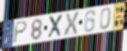0: (99, 7, 112, 31)
6: (83, 9, 96, 33)
8: (30, 18, 44, 41)
P: (12, 20, 29, 45)
X: (63, 11, 80, 38), (47, 14, 64, 40)
